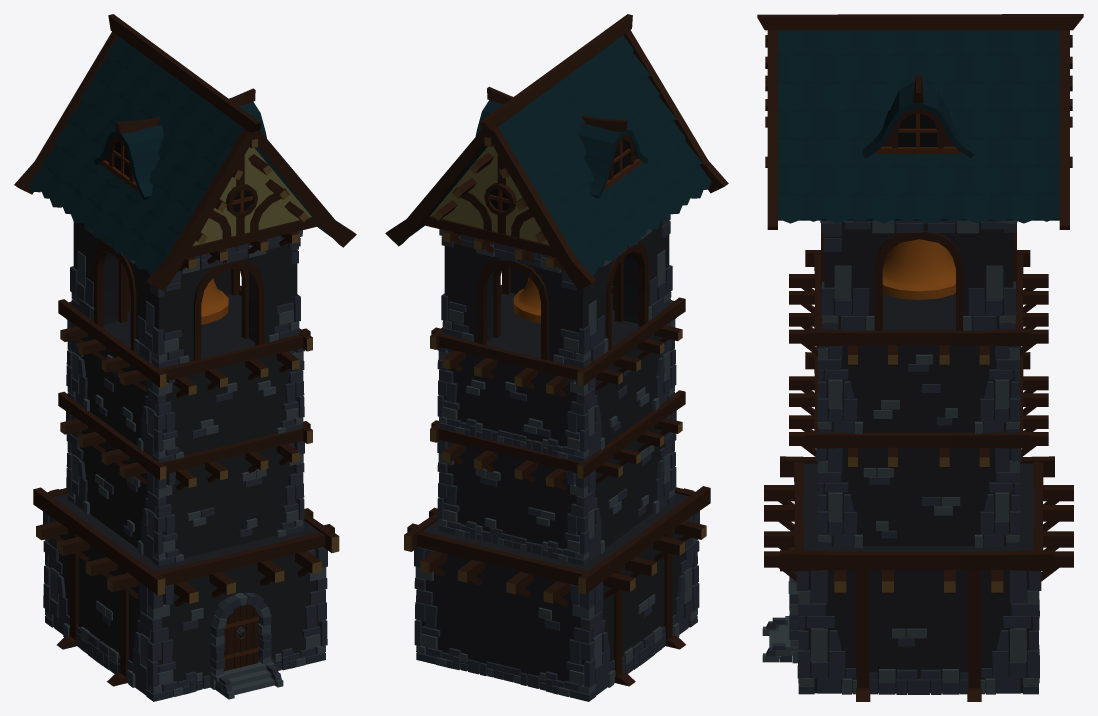
Rendered from Bell_Tower.obj.
3 views of the same model, side by side, from view 1: azimuth 30°, elevation 25°; view 2: azimuth 150°, elevation 25°; view 3: azimuth 270°, elevation 25° (orthographic). The views are drawn at different scales.
Parts seen in each view (by area): view 1: Bell_Tower; view 2: Bell_Tower; view 3: Bell_Tower.
Boxes of the visible parts, left/top/right/bottom form: Bell_Tower: left=14, top=14, right=356, bottom=701; Bell_Tower: left=385, top=14, right=728, bottom=701; Bell_Tower: left=757, top=14, right=1083, bottom=701.
Size of the model in its own units: 1.94 by 4.76 by 2.23.
